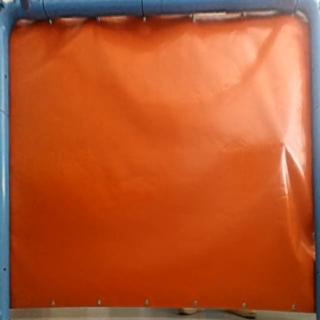Hit-hRxx: (277, 137, 290, 151)
